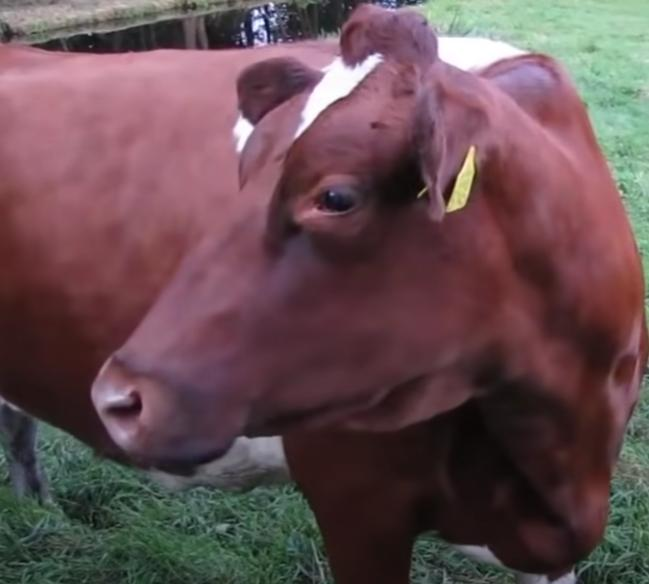cow: (0, 37, 649, 584)
